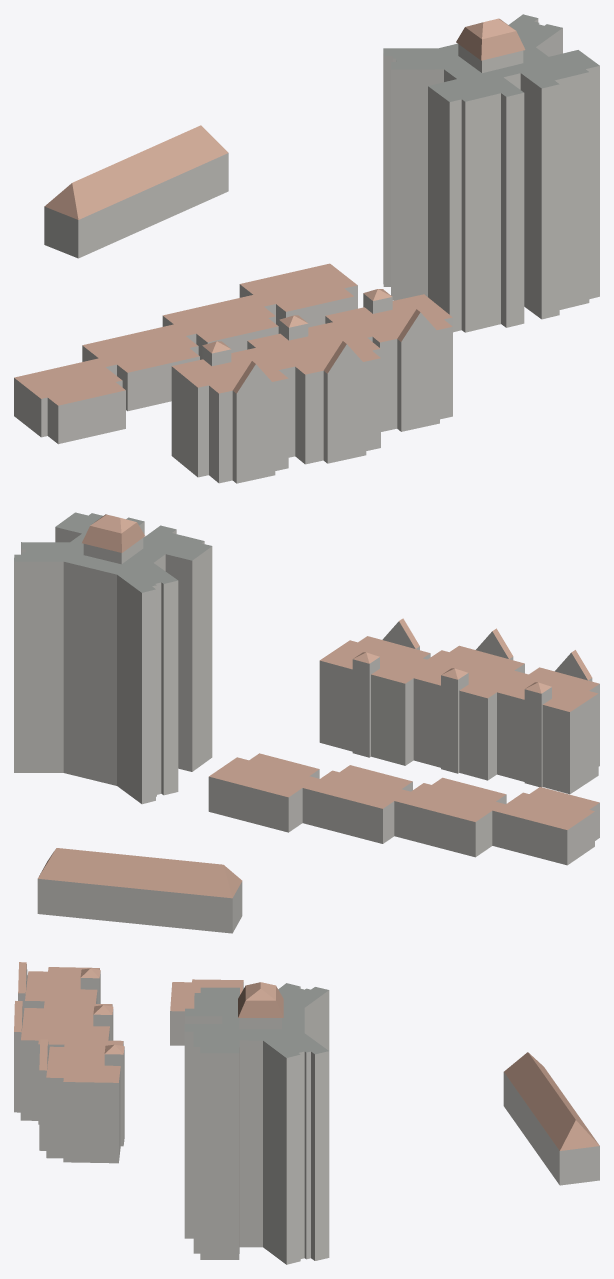
The model's file is gridID_30.dae.
3 renders of one model, top to bottom at view 1: azimuth 30°, elevation 25°; view 2: azimuth 150°, elevation 25°; view 3: azimuth 270°, elevation 25°, orthographic. The views are drawn at different scales.
Visible parts, largest first — view 1: model_gridID_30_w399692316, model_gridID_30_w399653893, model_gridID_30_w389551018, model_gridID_30_w376378542; view 2: model_gridID_30_w399692316, model_gridID_30_w399653893, model_gridID_30_w389551018, model_gridID_30_w376378542; view 3: model_gridID_30_w399692316, model_gridID_30_w399653893, model_gridID_30_w376378542, model_gridID_30_w389551018.
Boxes of the visible parts, bbox=[...] form: model_gridID_30_w399692316: bbox=[383, 14, 599, 332]; model_gridID_30_w399653893: bbox=[171, 289, 452, 483]; model_gridID_30_w389551018: bbox=[14, 263, 357, 444]; model_gridID_30_w376378542: bbox=[44, 125, 228, 258]; model_gridID_30_w399692316: bbox=[14, 512, 212, 804]; model_gridID_30_w399653893: bbox=[319, 618, 599, 794]; model_gridID_30_w389551018: bbox=[208, 753, 599, 865]; model_gridID_30_w376378542: bbox=[37, 848, 242, 933]; model_gridID_30_w399692316: bbox=[184, 982, 329, 1264]; model_gridID_30_w399653893: bbox=[14, 962, 124, 1163]; model_gridID_30_w376378542: bbox=[503, 1052, 599, 1185]; model_gridID_30_w389551018: bbox=[170, 979, 243, 1045].
Bounding box in the file's own units: 117 × 116 × 52.61.
